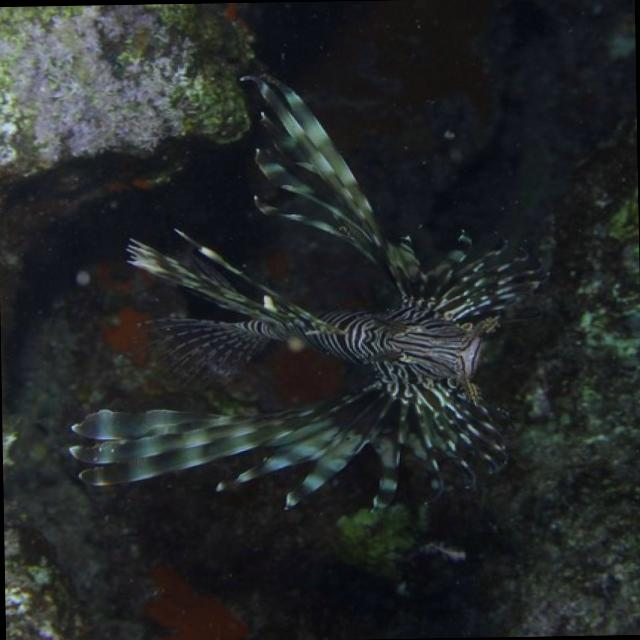Aslan Baligi: (58, 64, 556, 520)
